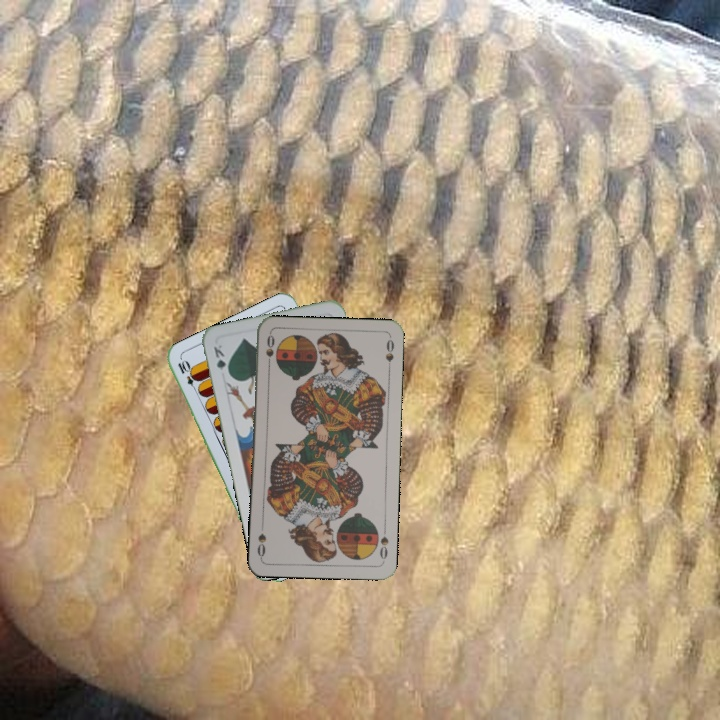E10: (174, 356, 201, 395)
GK: (209, 340, 232, 379)
SO: (376, 523, 391, 564), (262, 331, 277, 371)
